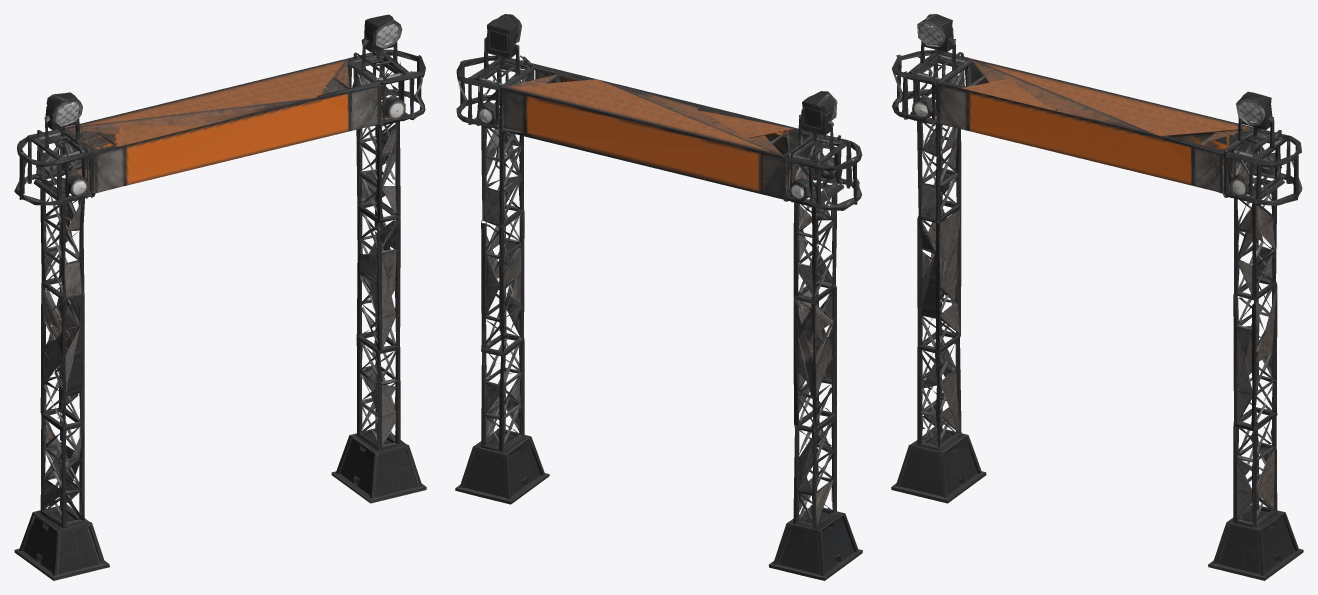
Rendered from thunder-timing.glb.
The picture shows the model from 3 angles, left to right: view 1: azimuth 30°, elevation 25°; view 2: azimuth 150°, elevation 25°; view 3: azimuth 330°, elevation 25°; orthographic projection.
Bounding box in the file's own units: 1.71 × 1.9 × 0.2872.
Materials: 1 (1 with a texture image).
